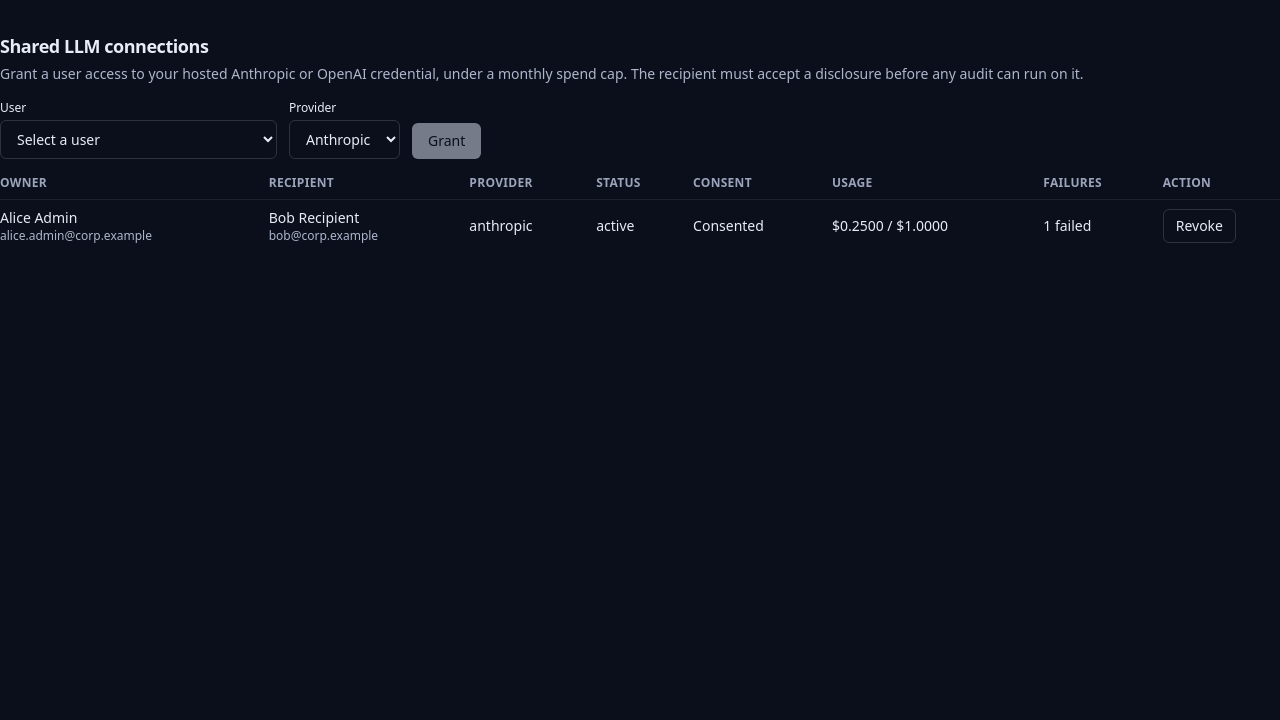
Test: AdminSharedLlmConnections › shows an alert and keeps the row when revoke fails, without implying access was cut
Expected: the text "bob@corp.example" is shown, [269,227,378,244]
Click the button "Revoke" at (1199, 226), box [1163,209,1236,243]
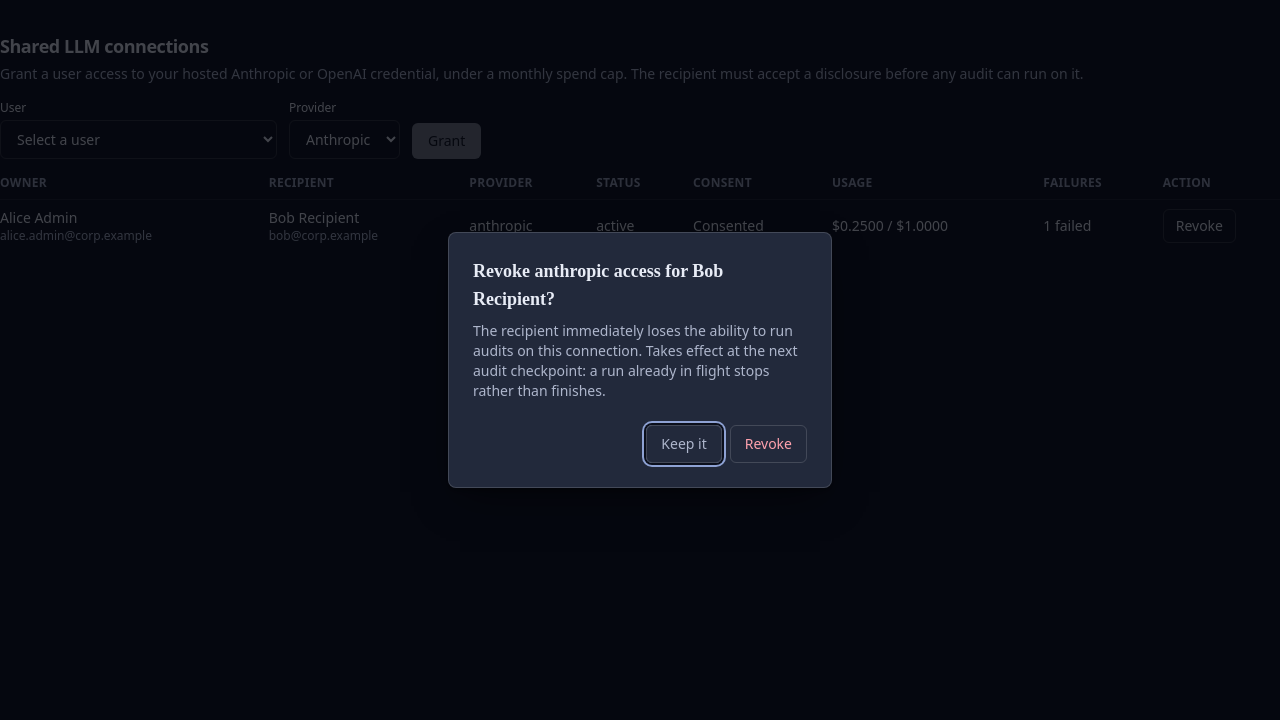
Click the button "Revoke" at (768, 444), box [730,425,807,463]
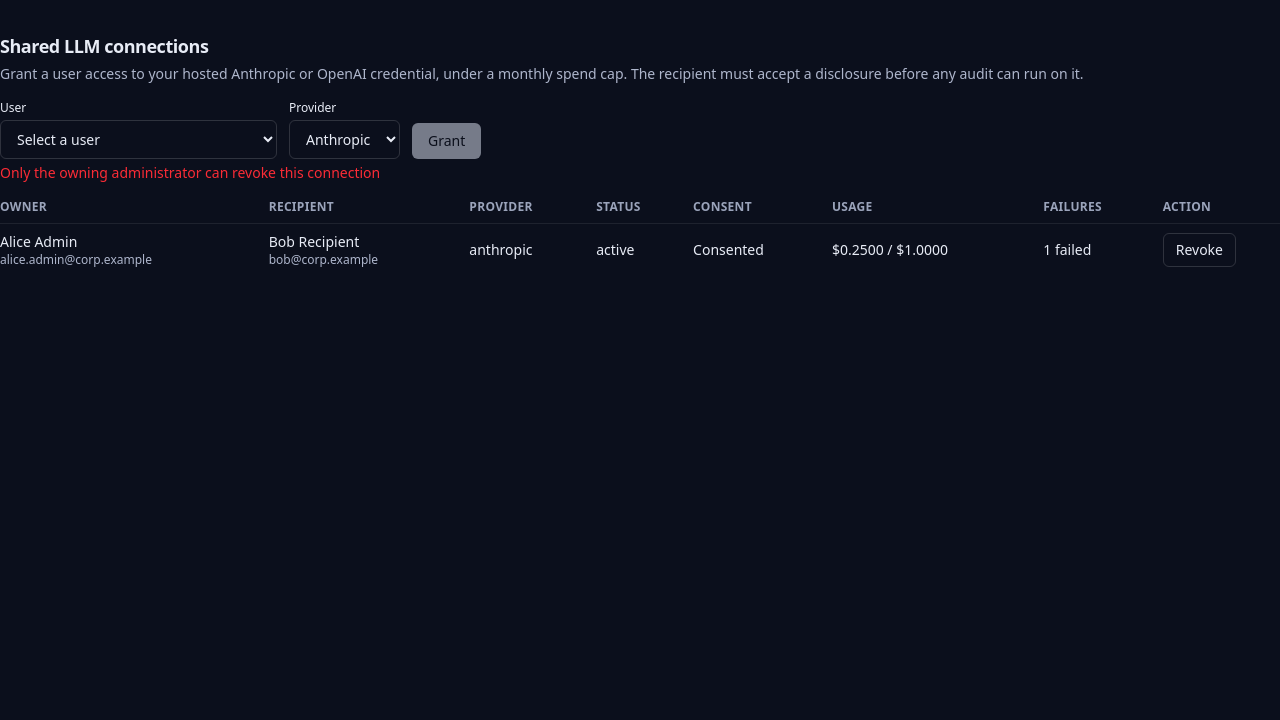
Expected: the text "bob@corp.example" is shown, [269,251,378,268]
Expected: the message reads "Only the owning administrator can revoke this connection", [0,163,380,182]
